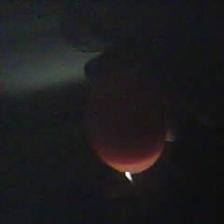fertile: (84, 78, 168, 174)
